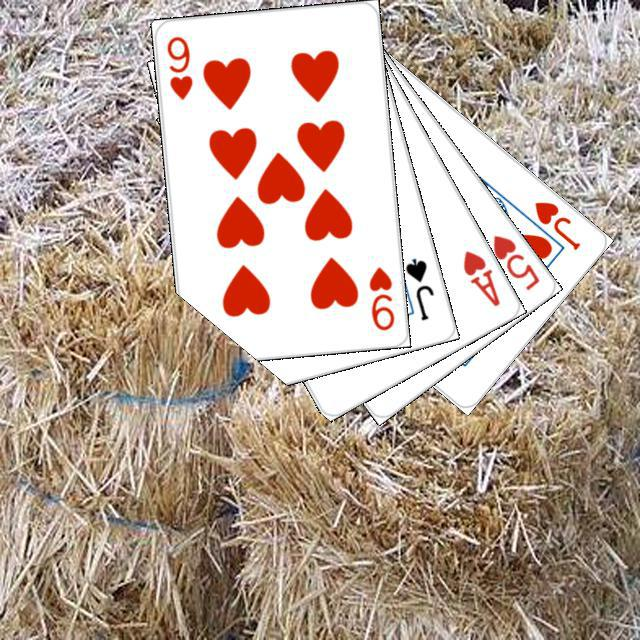5h: (487, 230, 541, 292)
9h: (161, 31, 195, 102), (364, 261, 396, 332)
Ah: (457, 245, 502, 308)
Jh: (529, 196, 582, 252)
Js: (400, 253, 436, 323)
